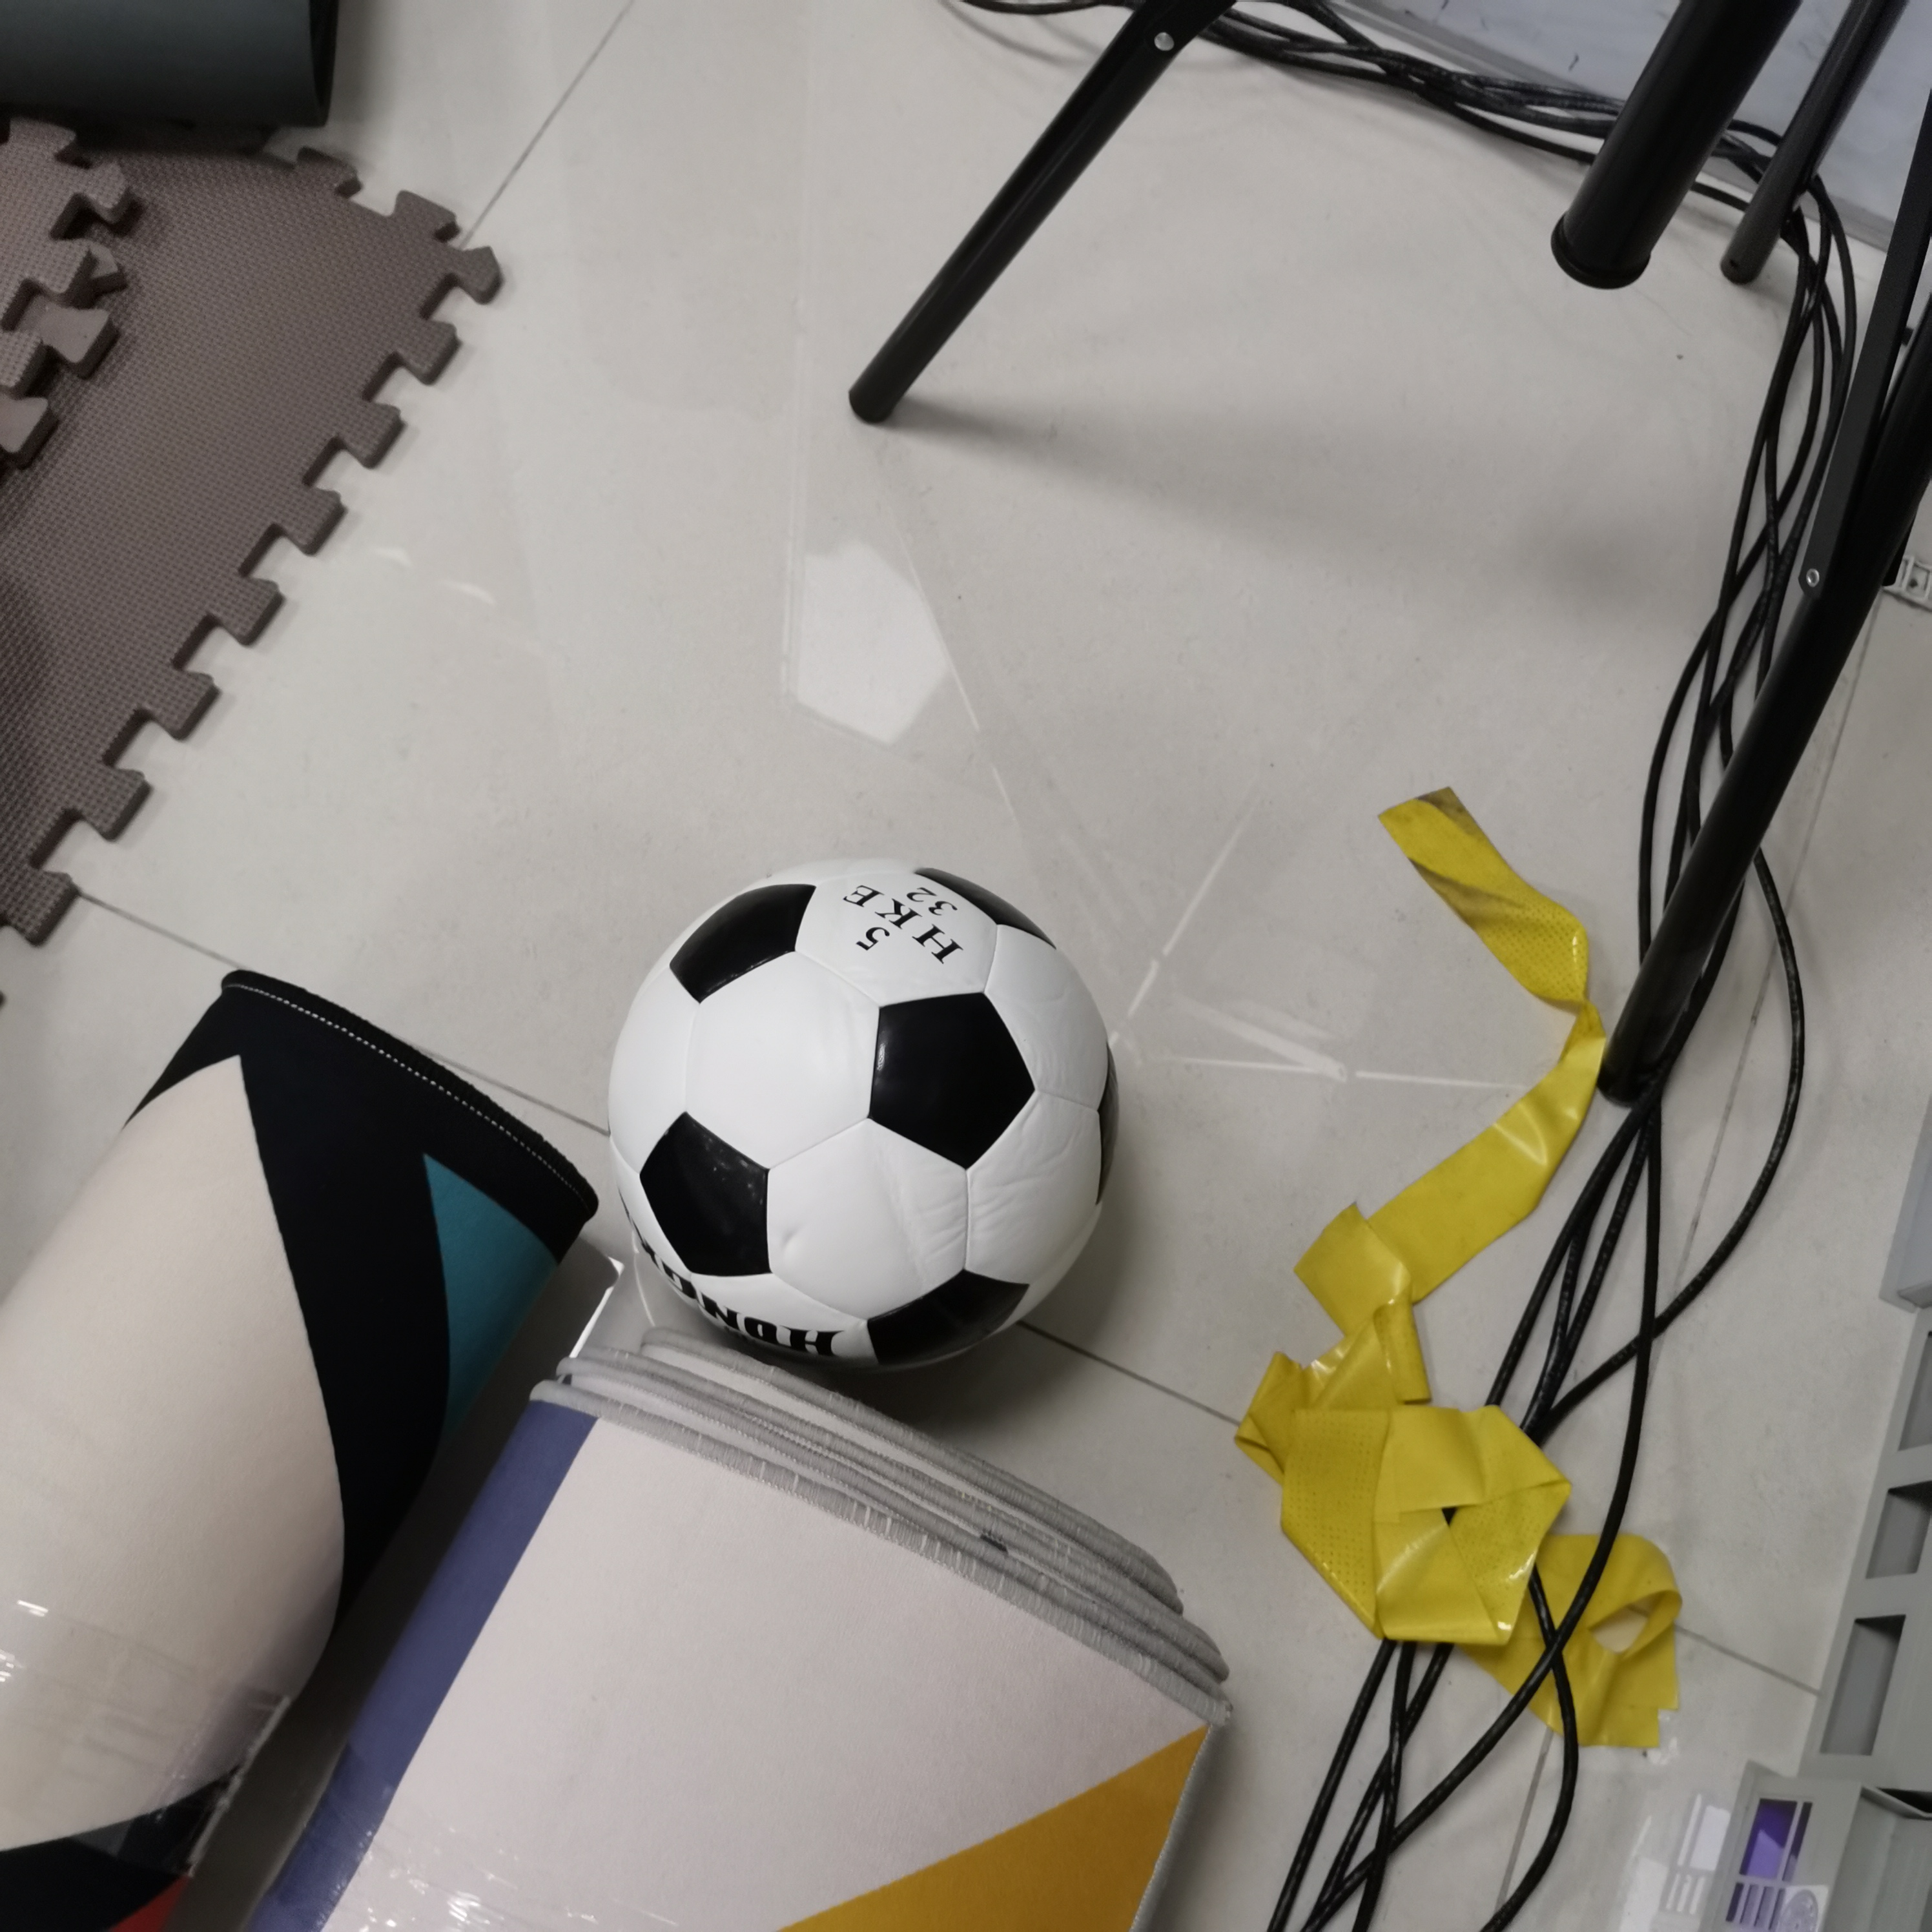football: (605, 860, 1120, 1368)
